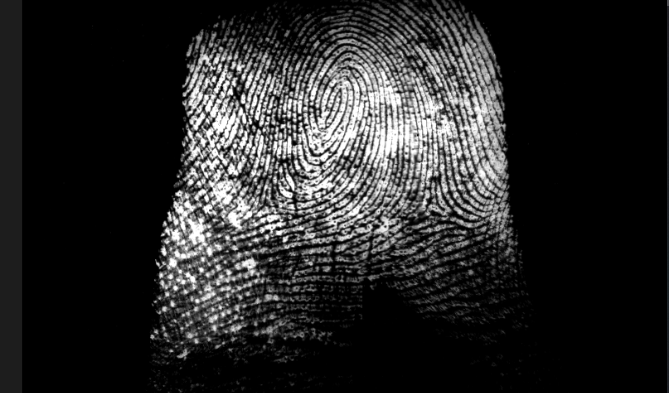nucelo: (311, 81, 351, 134)
verticilo: (414, 196, 445, 222), (249, 193, 280, 215)
